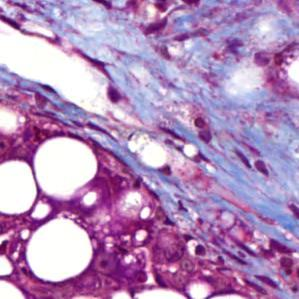steatosis: (34, 132, 103, 198), (27, 220, 92, 280)
